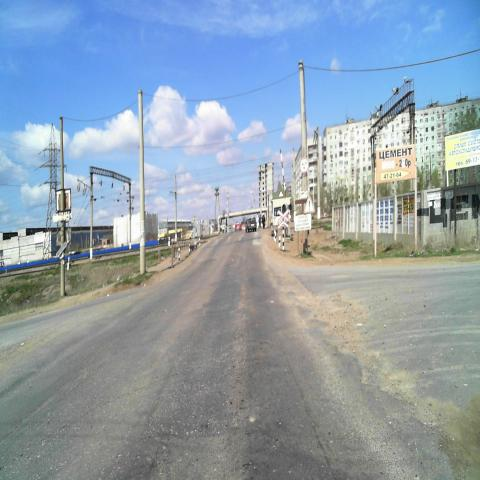1_33: (304, 194, 316, 214)
3_13: (299, 156, 309, 174)
